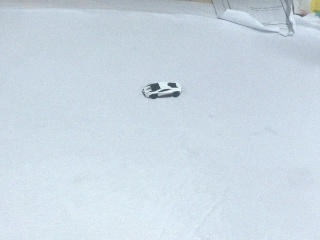toy_car: (142, 82, 181, 99)
